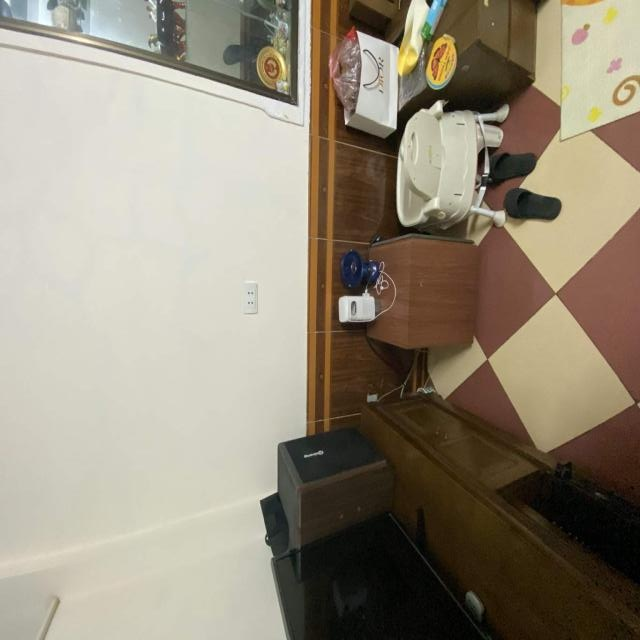outlet: (242, 282, 258, 315)
